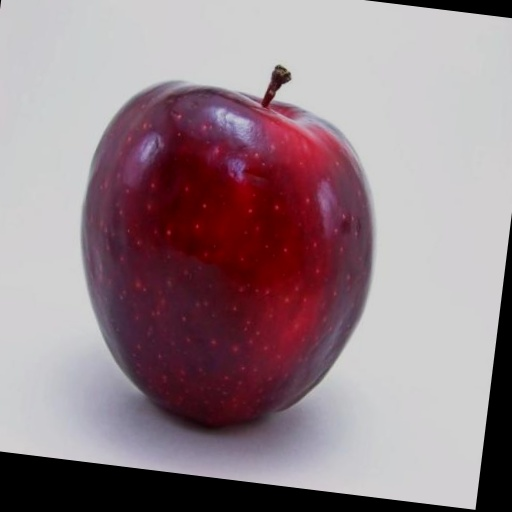fruit: (81, 67, 373, 425)
